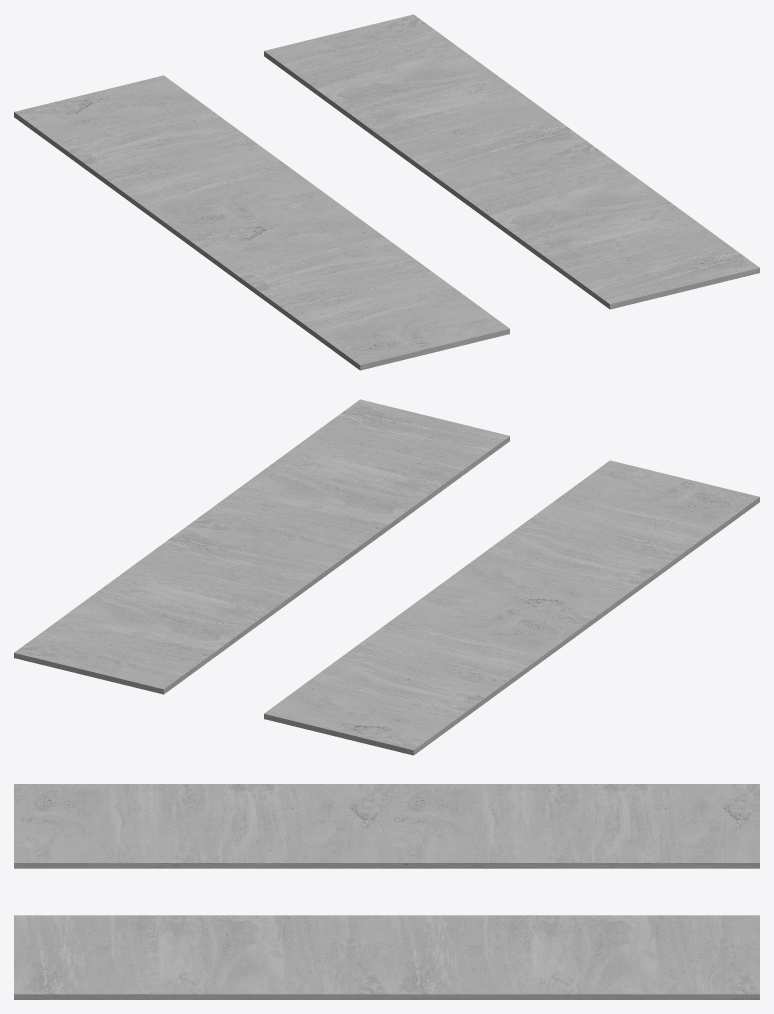
Rendered from CeilingRoomA.glb.
3 renders of one model, top to bottom at view 1: azimuth 30°, elevation 25°; view 2: azimuth 150°, elevation 25°; view 3: azimuth 270°, elevation 25°, orthographic. The views are drawn at different scales.
Parts seen in each view (by area): view 1: Ceiling-8x8-SkylightSeamless.001; view 2: Ceiling-8x8-SkylightSeamless.001; view 3: Ceiling-8x8-SkylightSeamless.001.
Boxes of the visible parts, x1=… form: Ceiling-8x8-SkylightSeamless.001: x1=14, y1=14, x2=759, y2=370; Ceiling-8x8-SkylightSeamless.001: x1=14, y1=399, x2=759, y2=755; Ceiling-8x8-SkylightSeamless.001: x1=14, y1=784, x2=759, y2=999.
Size of the model in its own units: 16 by 0.2 by 24.
Materials: 1 (1 with a texture image).
